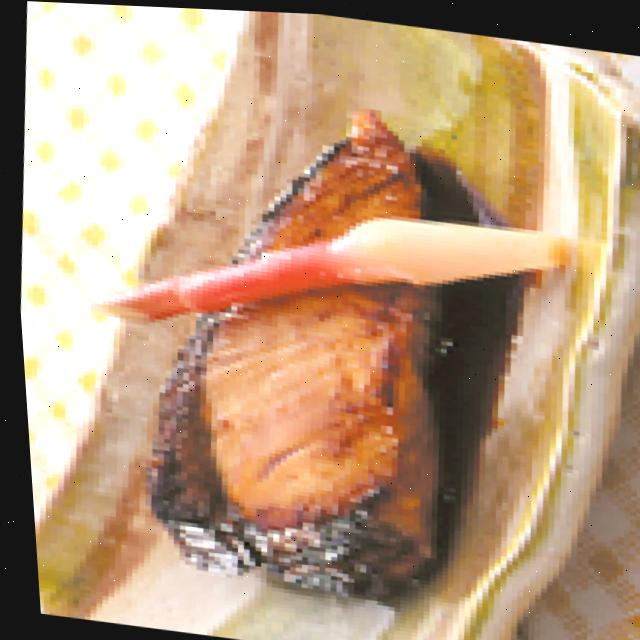熟制海鲜: (47, 54, 525, 640)
